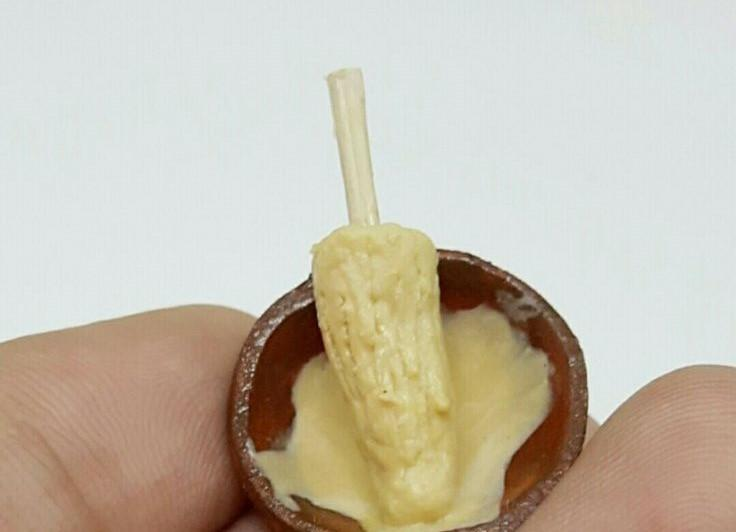Kulfi: (314, 225, 463, 527)
